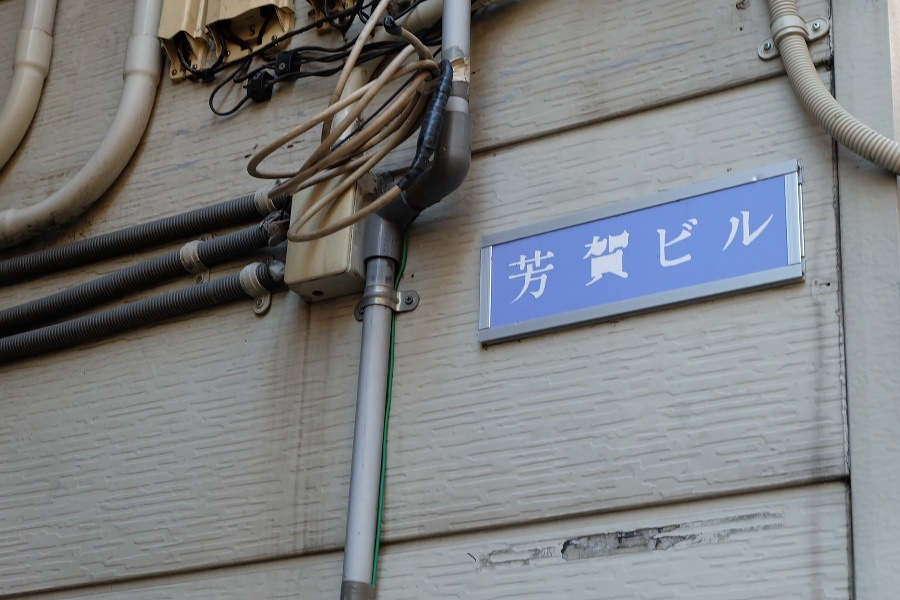text: (513, 196, 528, 306), (529, 196, 544, 306), (545, 196, 560, 306), (561, 196, 576, 306), (577, 196, 592, 306), (593, 196, 608, 306), (609, 196, 624, 306), (625, 196, 640, 306), (641, 196, 656, 306), (657, 196, 672, 306), (673, 196, 688, 306), (689, 196, 704, 306), (705, 196, 720, 306), (721, 196, 736, 306), (737, 196, 752, 306), (753, 196, 768, 306), (769, 196, 775, 306), (509, 196, 512, 306)
